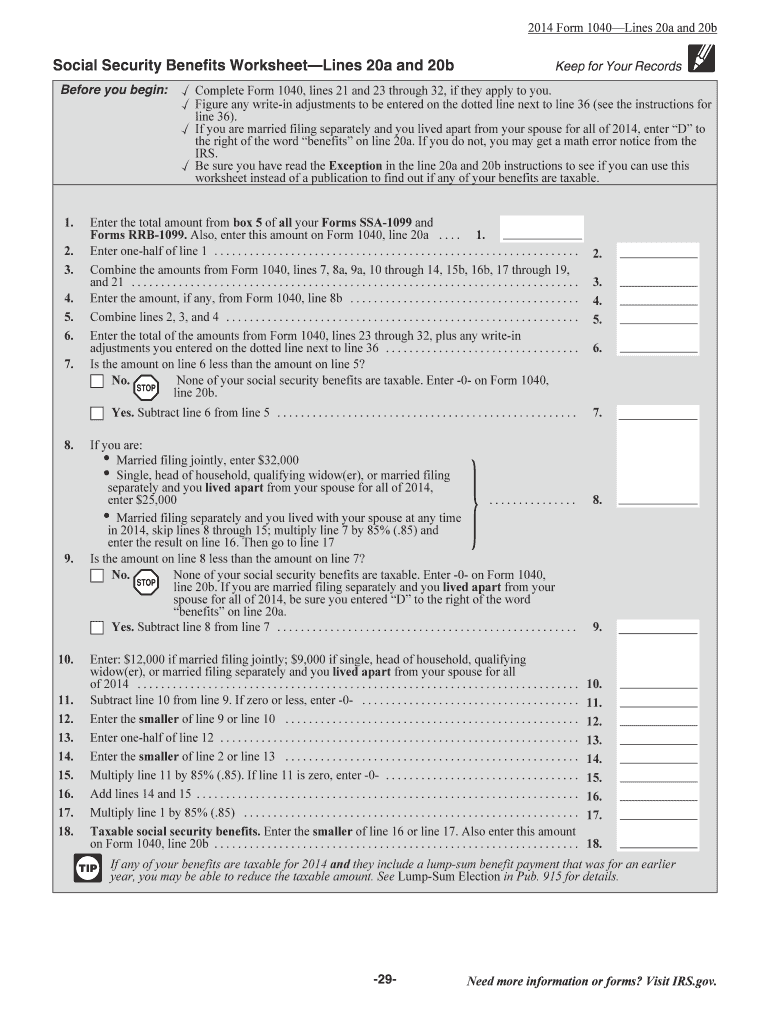checkbox: (85, 615, 107, 636), (87, 372, 108, 390), (85, 403, 106, 421), (87, 566, 108, 584)
textline: (495, 212, 591, 242), (612, 234, 708, 264), (611, 260, 707, 290), (613, 278, 709, 308), (608, 297, 704, 327), (611, 328, 707, 358), (609, 392, 705, 422), (610, 480, 706, 510), (613, 606, 709, 636), (609, 662, 705, 692), (612, 681, 708, 711), (609, 700, 705, 730), (607, 720, 703, 750), (608, 738, 704, 768), (610, 756, 706, 786), (611, 775, 707, 805), (610, 792, 706, 822), (613, 820, 709, 850)
